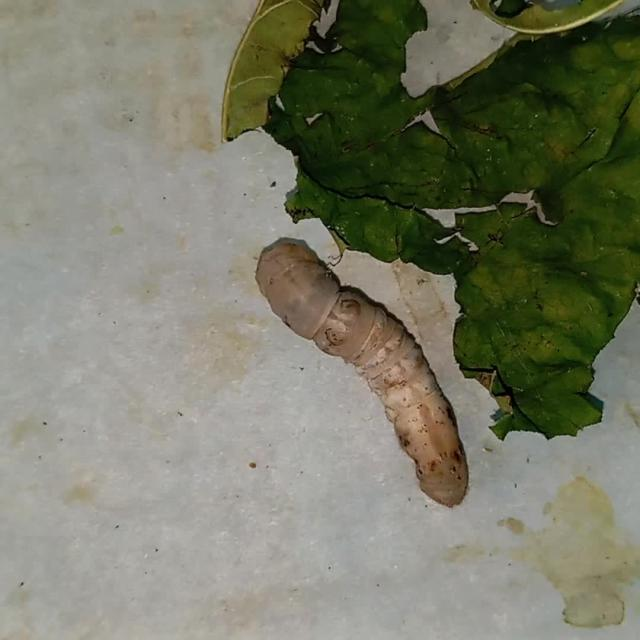Grasserie: (197, 208, 566, 559)
